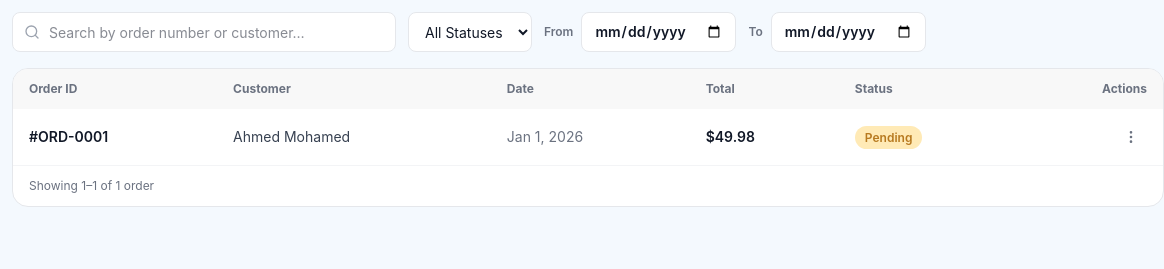
OrdersList › SUPPORT never gets a confirm action
The width and height of the screenshot is (1164, 269).
Click the button named "Actions for #ORD-0001".
click(1131, 137)  # box [1115,121,1147,153]
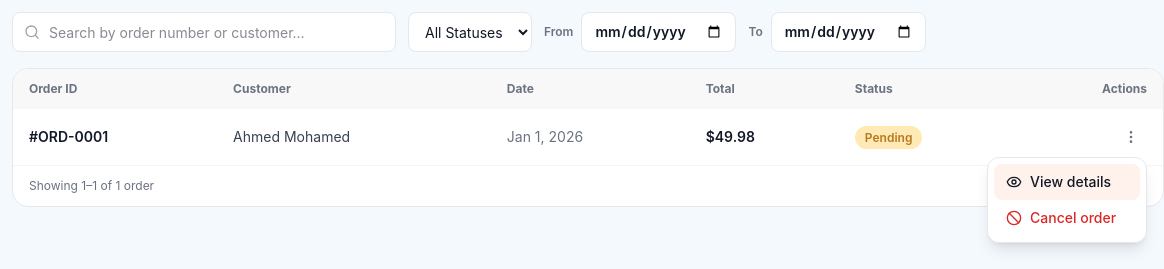
Now the menu item "Cancel order" is shown, box [994,200,1140,236]
